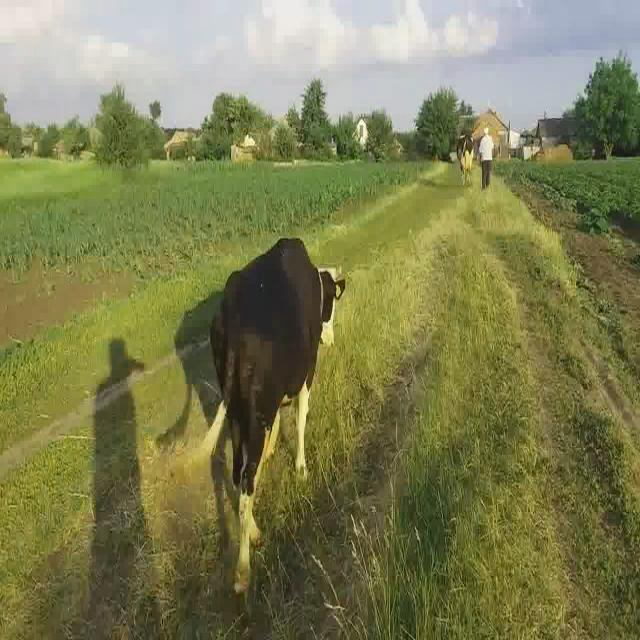cow: (211, 238, 345, 592)
